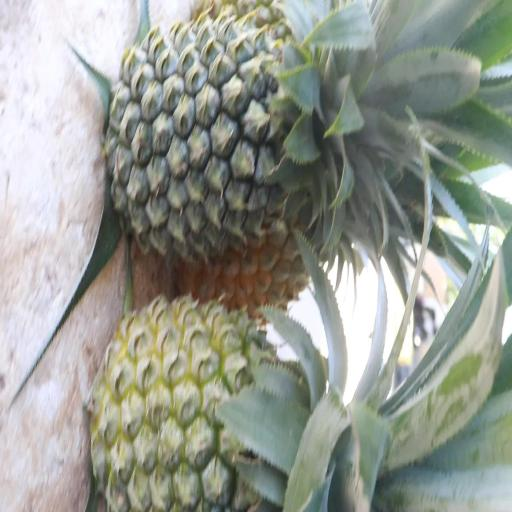------------------------------: (98, 305, 371, 512)
